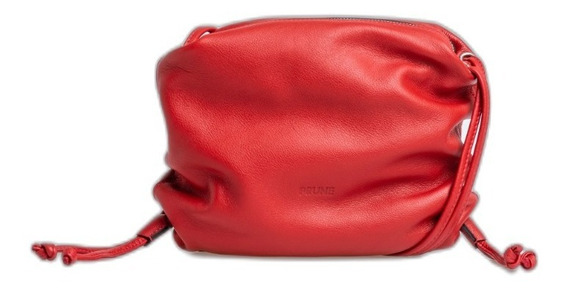cartera: (146, 14, 492, 262)
